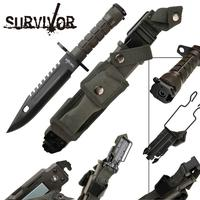knife: (3, 3, 130, 137)
